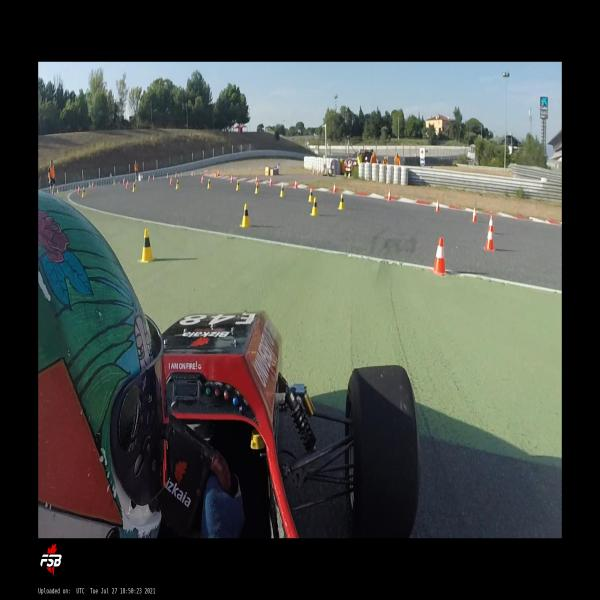orange_cone: (430, 238, 448, 276), (484, 226, 494, 252), (487, 214, 494, 234), (471, 207, 477, 223), (279, 184, 285, 198), (435, 199, 440, 213), (387, 189, 392, 202), (332, 182, 337, 194), (77, 185, 81, 194), (200, 175, 204, 184), (269, 177, 273, 186), (294, 180, 298, 189), (230, 175, 234, 183), (169, 176, 172, 186), (255, 176, 258, 184), (126, 180, 129, 188), (113, 179, 116, 186), (148, 175, 151, 181), (123, 178, 125, 184), (153, 174, 155, 180)
yellow_cone: (138, 228, 155, 263), (240, 203, 251, 228), (309, 196, 319, 216), (338, 194, 345, 210), (308, 188, 314, 202), (279, 184, 285, 198), (255, 182, 260, 194), (81, 187, 86, 197), (207, 178, 211, 189), (236, 180, 240, 191), (176, 179, 180, 189), (132, 182, 136, 191), (113, 179, 116, 186), (57, 188, 59, 193), (167, 172, 168, 178)
